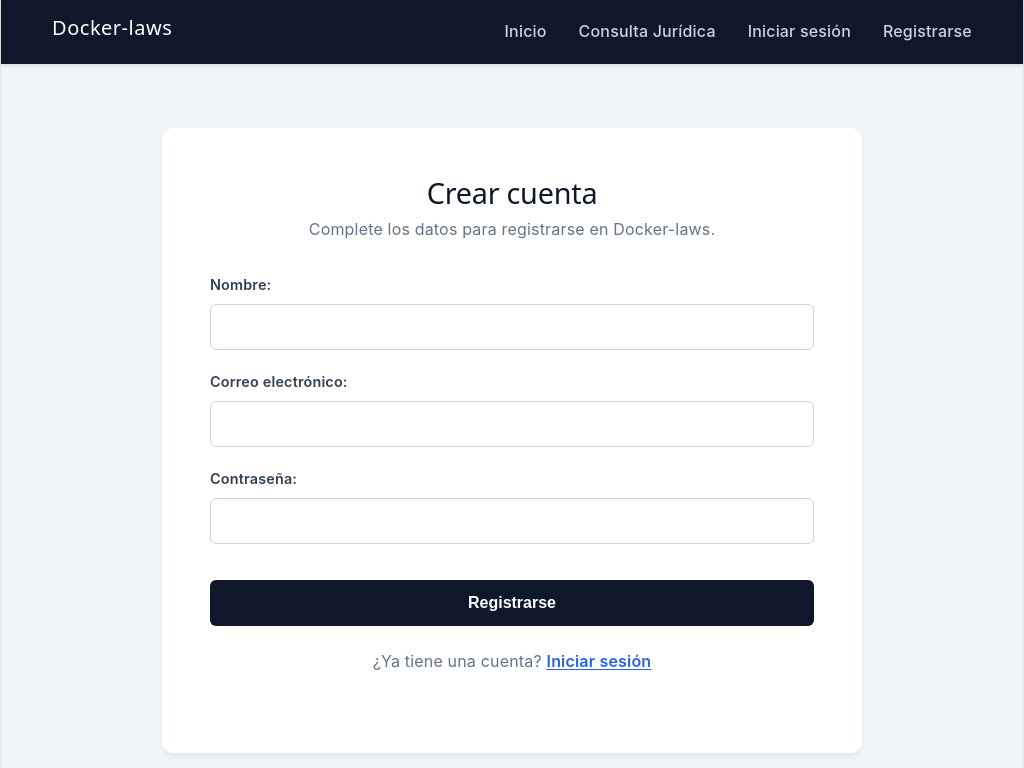
Test: informa el duplicado y conserva la pantalla de registro sin iniciar sesión
The image size is (1024, 768).
Step 1. Type "Cuenta ficticia" into the field labelled "Nombre:" → (512, 327), box 210,304 -> 814,350
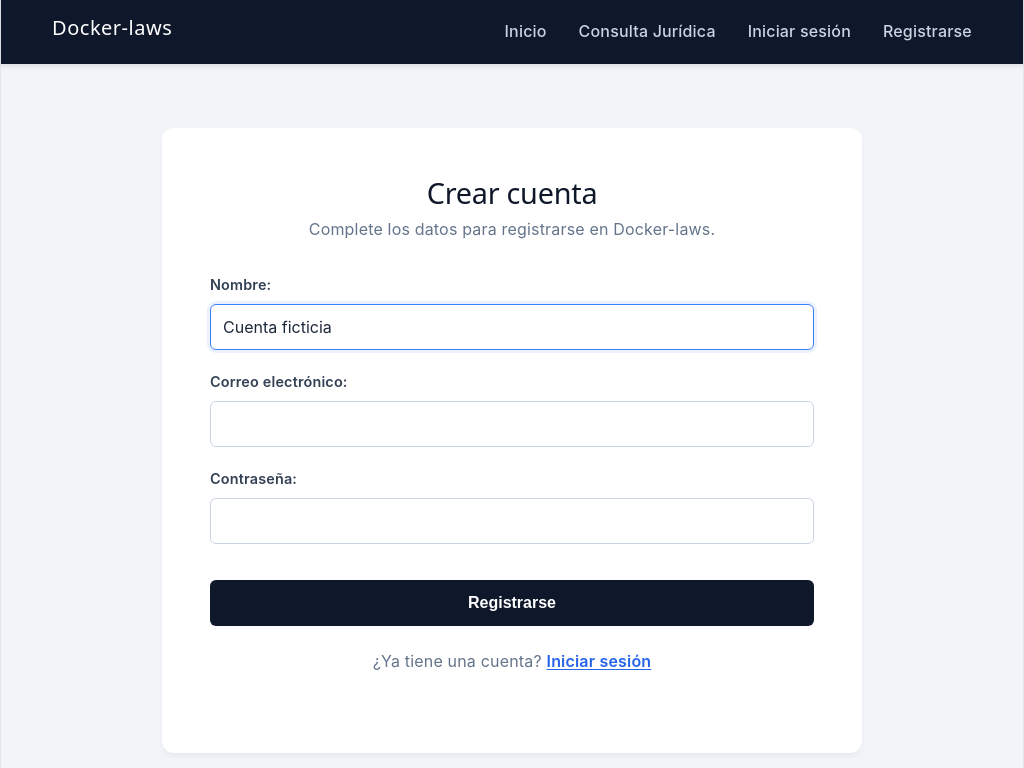
Step 2. Type "cuenta@ejemplo.invalid" into the field labelled "Correo electrónico:" → (512, 424), box 210,401 -> 814,447
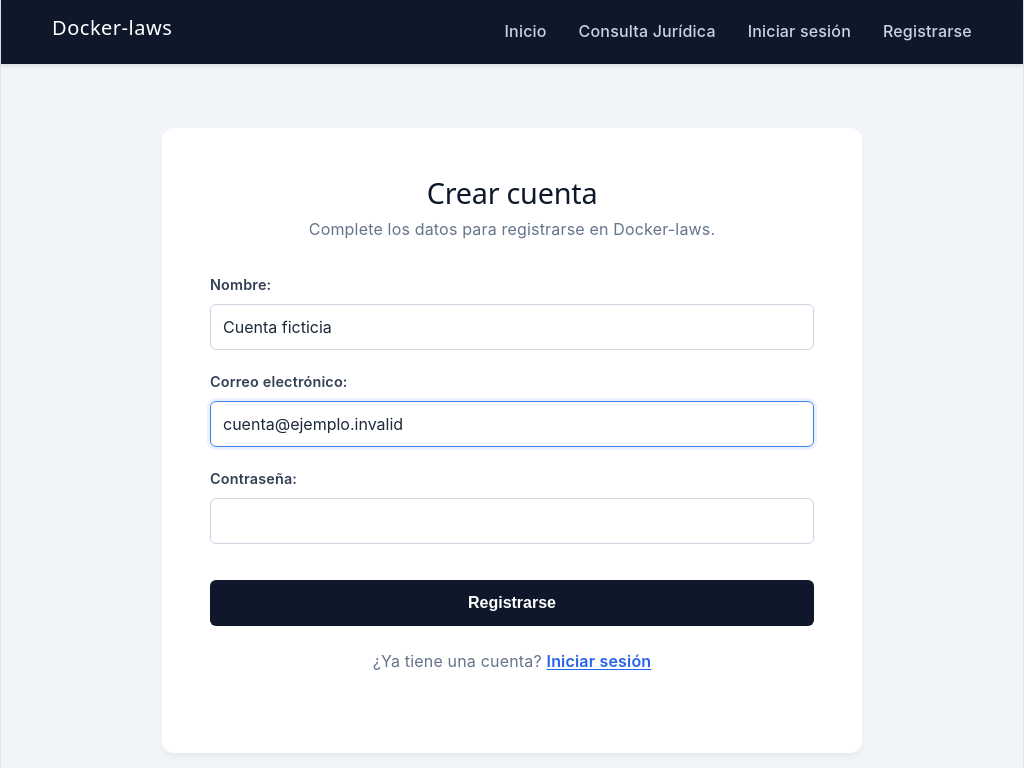
Step 3. Type "ClaveFicticiaDePrueba" into the password field labelled "Contraseña:" → (512, 521), box 210,498 -> 814,544
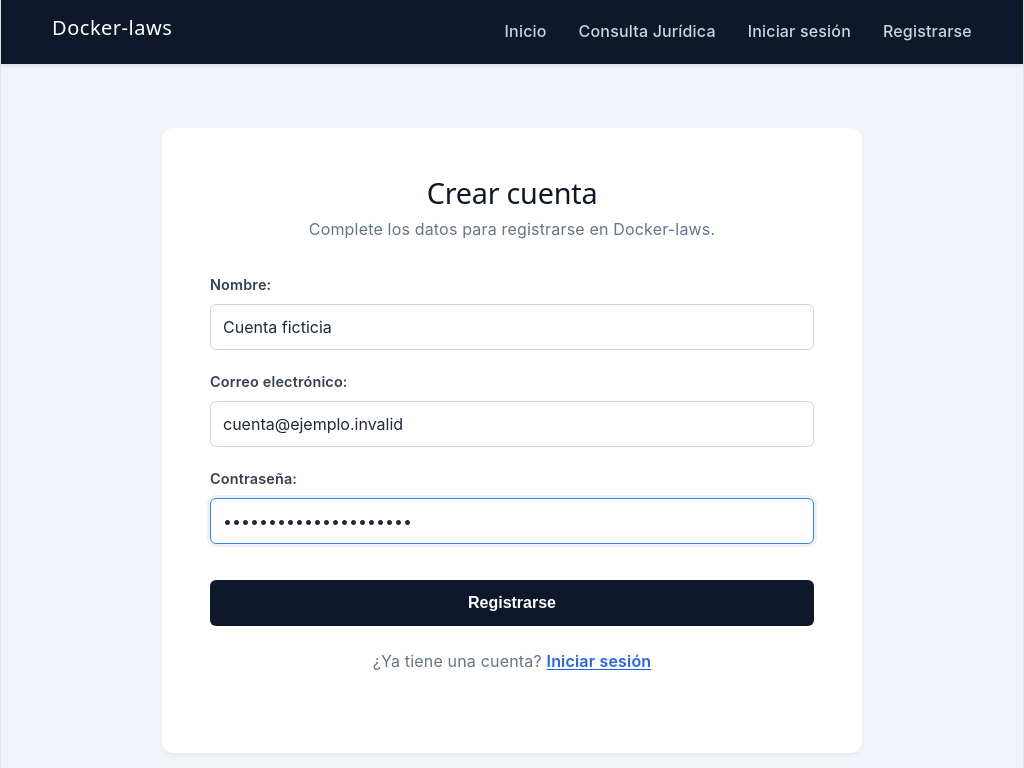
Step 4. Click the button "Registrarse" → (512, 603), box 210,580 -> 814,626
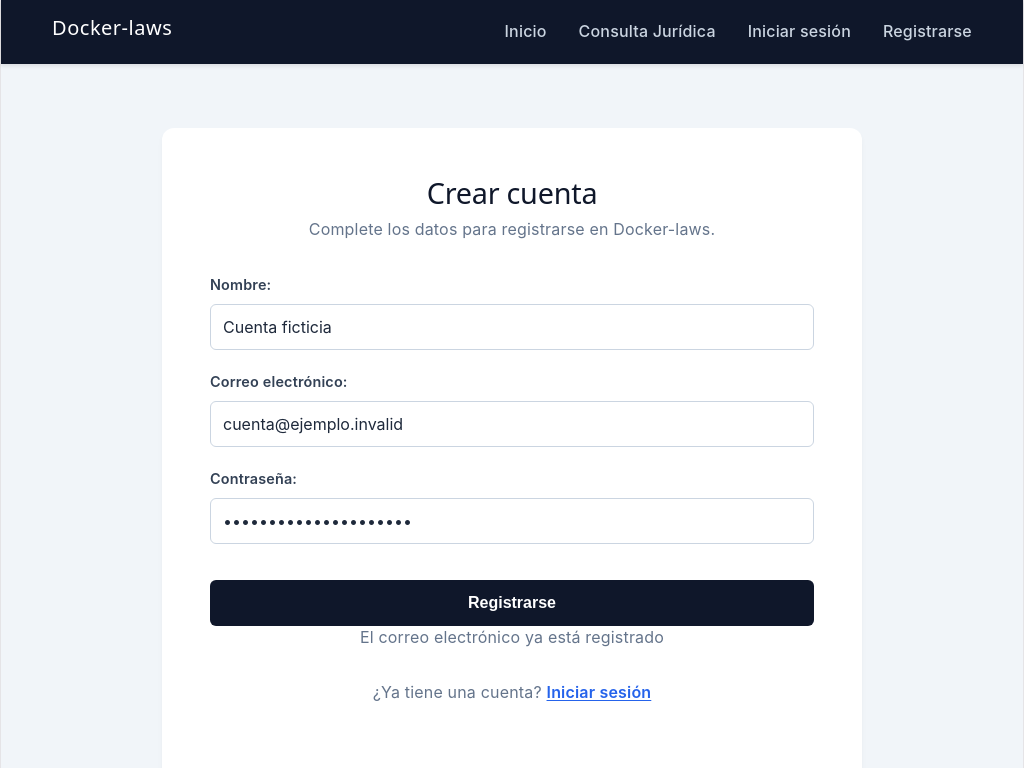
Expected: the message reads "El correo electrónico ya está registrado", 360,627 -> 664,647
